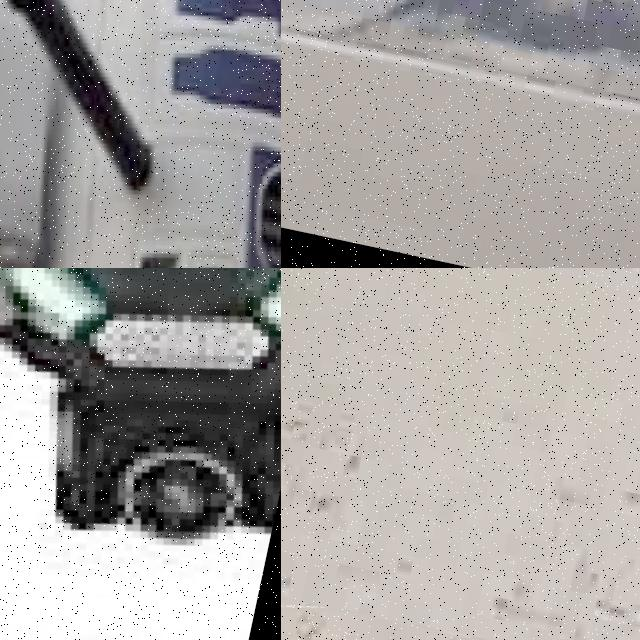0: (281, 560, 640, 640)
drone: (0, 268, 281, 640), (0, 0, 281, 268)
